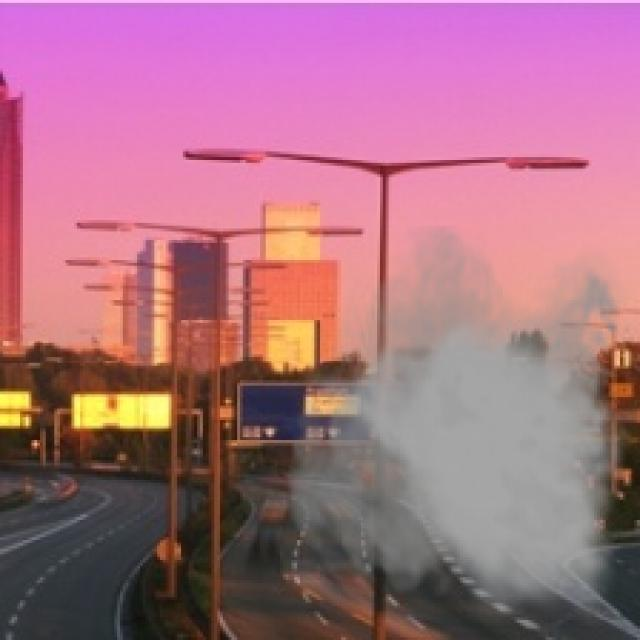smoke: (283, 225, 631, 626)
